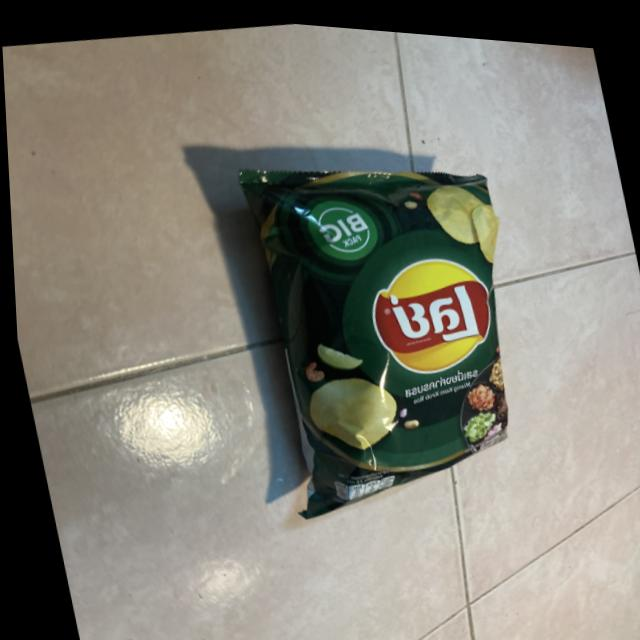Laygreen: (213, 117, 571, 542)
